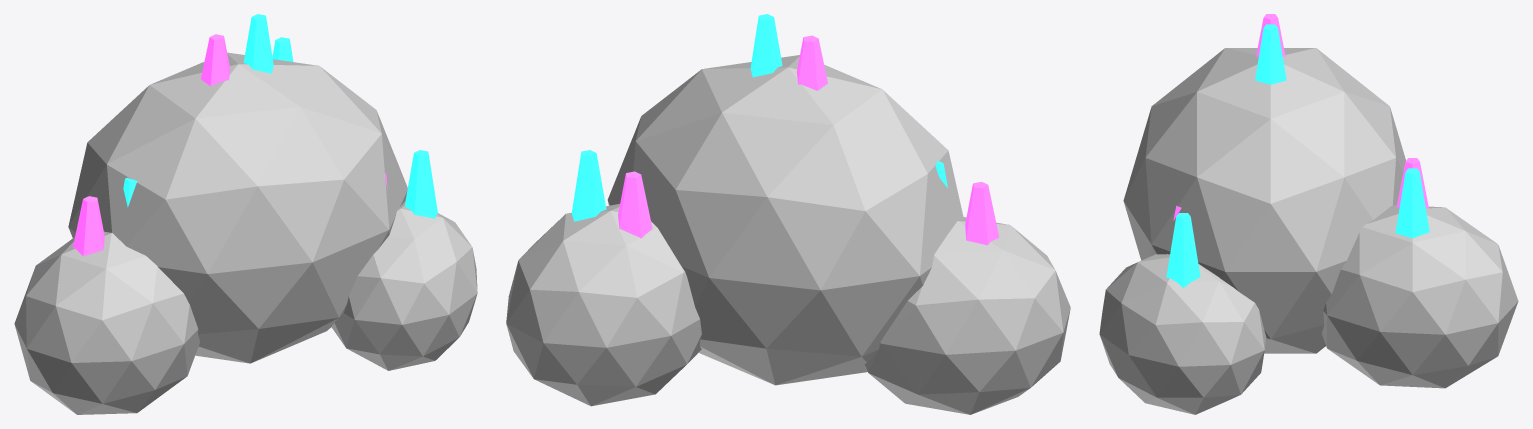
3 views of the same model, side by side, from view 1: azimuth 30°, elevation 25°; view 2: azimuth 150°, elevation 25°; view 3: azimuth 270°, elevation 25° (orthographic). The views are drawn at different scales.
Visible parts, largest first — view 1: Neon_RockCluster_Standard; view 2: Neon_RockCluster_Standard; view 3: Neon_RockCluster_Standard.
Boxes of the visible parts, left/top/right/bottom form: Neon_RockCluster_Standard: left=14, top=14, right=477, bottom=414; Neon_RockCluster_Standard: left=506, top=14, right=1070, bottom=414; Neon_RockCluster_Standard: left=1099, top=14, right=1518, bottom=414.
Size of the model in its own units: 2.24 by 1.7 by 1.92.
